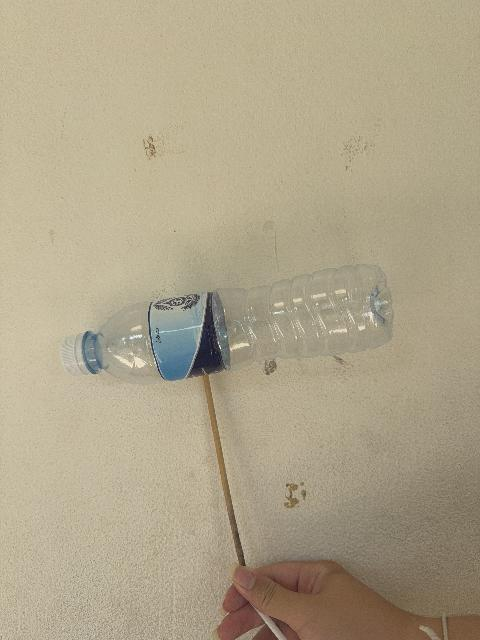bottle: (61, 265, 393, 383)
